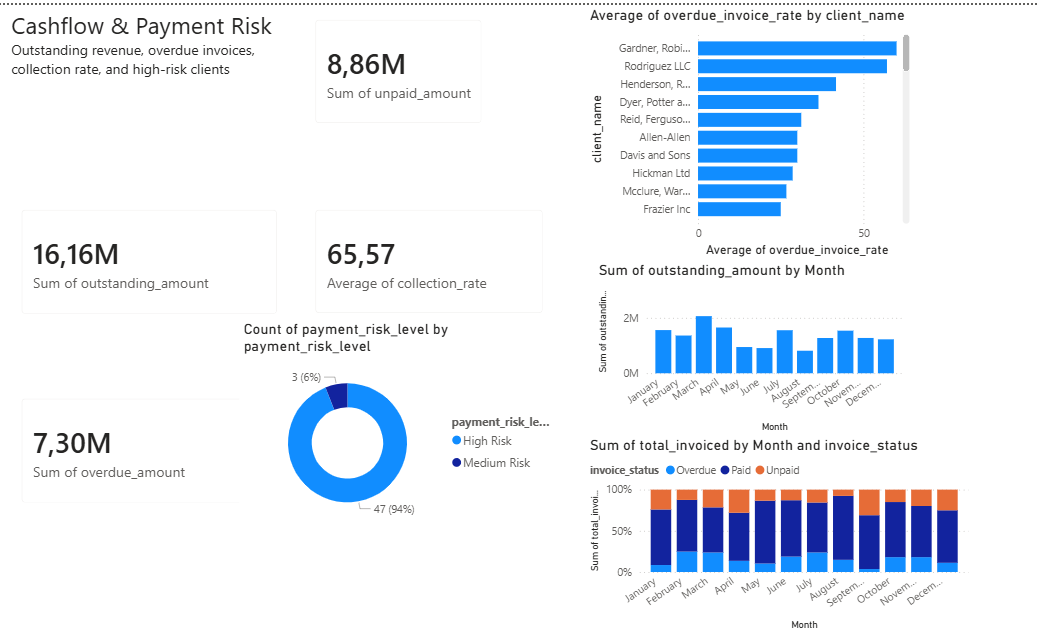

The page's visual inventory and layout, read from the dashboard file:
{"tool":"powerbi","page":{"name":"Cashflow & Payment Risk","canvas":[1280,720],"ordinal":4},"visuals":[{"type":"textbox","box":[10,0,325.7,152.9],"z":0},{"type":"cardVisual","fields":{"Data":["Sum(monthly_finance_kpis.outstanding_amount)"]},"box":[10,216.5,326,153],"z":1},{"type":"cardVisual","fields":{"Data":["Sum(monthly_finance_kpis.overdue_amount)"]},"box":[10,433.5,326,153],"z":2},{"type":"cardVisual","fields":{"Data":["Sum(monthly_finance_kpis.unpaid_amount)"]},"box":[345.7,0,224.3,152.9],"z":3},{"type":"cardVisual","fields":{"Data":["Avg(monthly_finance_kpis.collection_rate)"]},"box":[345.7,217.1,294.3,152.9],"z":4},{"type":"clusteredColumnChart","fields":{"Category":["monthly_finance_kpis.month.Variation.Date Hierarchy.Month"],"Y":["Sum(monthly_finance_kpis.outstanding_amount)"]},"box":[681.4,292.9,357.1,200],"z":5},{"type":"donutChart","fields":{"Category":["client_payment_risk_summary.payment_risk_level"],"Y":["CountNonNull(client_payment_risk_summary.payment_risk_level)"]},"box":[275.7,360,365.7,242.9],"z":6},{"type":"clusteredBarChart","fields":{"Category":["client_payment_risk_summary.client_name"],"Y":["Avg(client_payment_risk_summary.overdue_invoice_rate)"]},"box":[671.4,1.4,375.7,291.4],"z":7},{"type":"hundredPercentStackedColumnChart","fields":{"Category":["monthly_cashflow_risk.invoice_month.Variation.Date Hierarchy.Month"],"Series":["monthly_cashflow_risk.invoice_status"],"Y":["Sum(monthly_cashflow_risk.total_invoiced)"]},"box":[671.4,492.9,442.9,227.1],"z":8}]}

Visuals, with their boxes on the page's 1280x720 design canvas (x1, y1, x2, y2). These are canvas units, not pixel positions in the 1039x634 screenshot, which may show the page scaled, cropped or inside an application window:
textbox: (10,0,336,153)
cardVisual - Sum(monthly_finance_kpis.outstanding_amount): (10,216,336,370)
cardVisual - Sum(monthly_finance_kpis.overdue_amount): (10,434,336,586)
cardVisual - Sum(monthly_finance_kpis.unpaid_amount): (346,0,570,153)
cardVisual - Avg(monthly_finance_kpis.collection_rate): (346,217,640,370)
clusteredColumnChart - monthly_finance_kpis.month.Variation.Date Hierarchy.Month x Sum(monthly_finance_kpis.outstanding_amount): (681,293,1038,493)
donutChart - client_payment_risk_summary.payment_risk_level x CountNonNull(client_payment_risk_summary.payment_risk_level): (276,360,641,603)
clusteredBarChart - client_payment_risk_summary.client_name x Avg(client_payment_risk_summary.overdue_invoice_rate): (671,1,1047,293)
hundredPercentStackedColumnChart - monthly_cashflow_risk.invoice_month.Variation.Date Hierarchy.Month x monthly_cashflow_risk.invoice_status: (671,493,1114,720)
